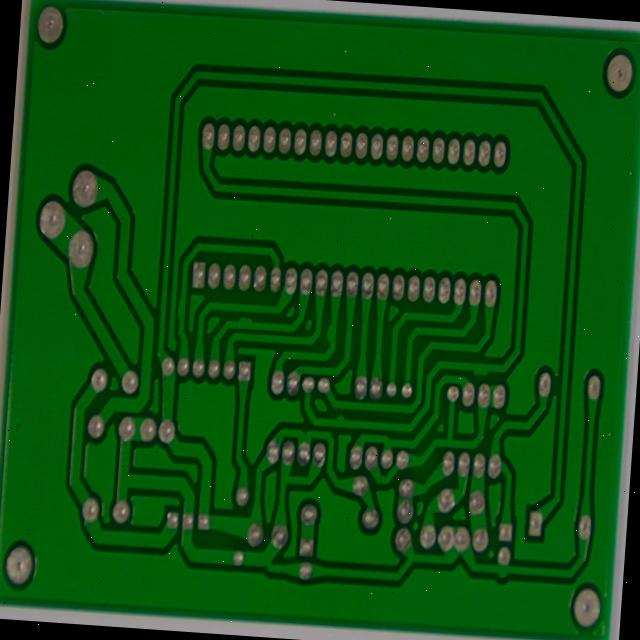spur: (353, 259, 373, 292), (359, 366, 381, 394), (190, 230, 208, 264), (255, 250, 281, 273), (511, 309, 538, 330)
